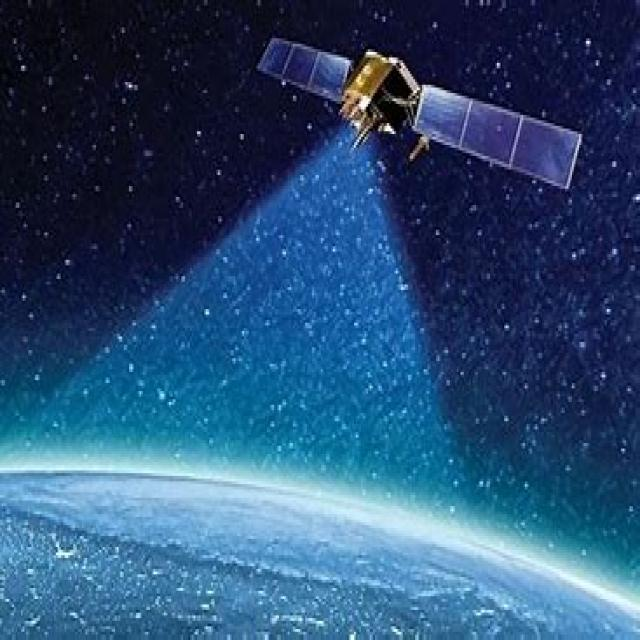satellite: (252, 25, 588, 203)
